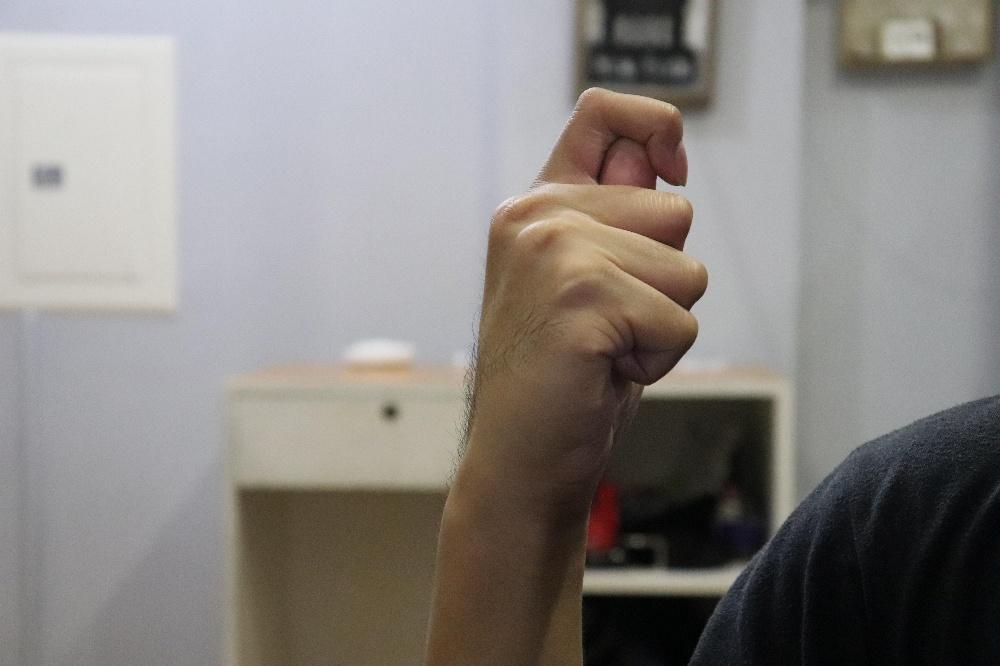t: (456, 84, 708, 497)
